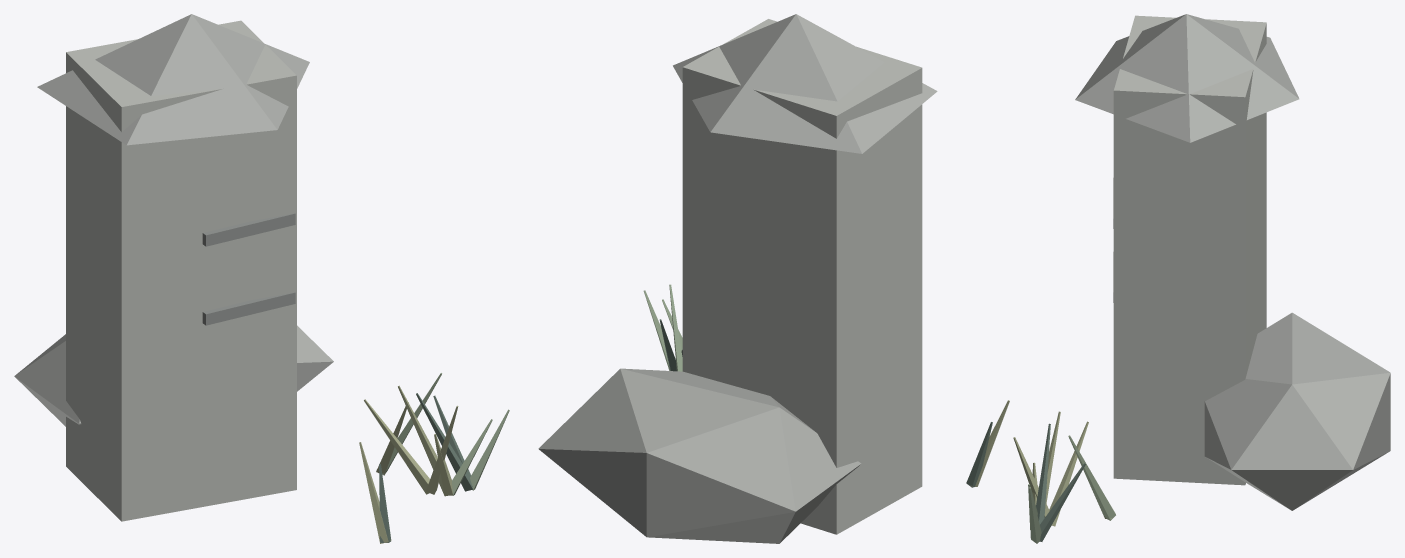
File: lost_svalich_milestone.glb
3 renders of one model, left to right at view 1: azimuth 30°, elevation 25°; view 2: azimuth 150°, elevation 25°; view 3: azimuth 270°, elevation 25°, orthographic. The views are drawn at different scales.
Parts seen in each view (by area): view 1: material_01, material_00, material_05, material_02, material_03, material_04; view 2: material_01, material_00, material_03; view 3: material_01, material_00, material_05, material_04, material_03.
Boxes of the visible parts, x1,y1,x2,y2 form: material_01: (66, 20, 296, 521); material_00: (14, 14, 333, 426); material_05: (359, 385, 458, 543); material_02: (202, 213, 295, 325); material_03: (382, 373, 509, 495); material_04: (379, 393, 473, 542); material_01: (682, 19, 922, 534); material_00: (538, 14, 937, 543); material_03: (643, 284, 682, 371); material_01: (1113, 15, 1266, 485); material_00: (1075, 14, 1390, 510); material_05: (970, 400, 1115, 526); material_04: (966, 422, 1085, 541); material_03: (1028, 435, 1115, 543).
Bounding box in the file's own units: 0.731 × 0.9594 × 0.8327.
